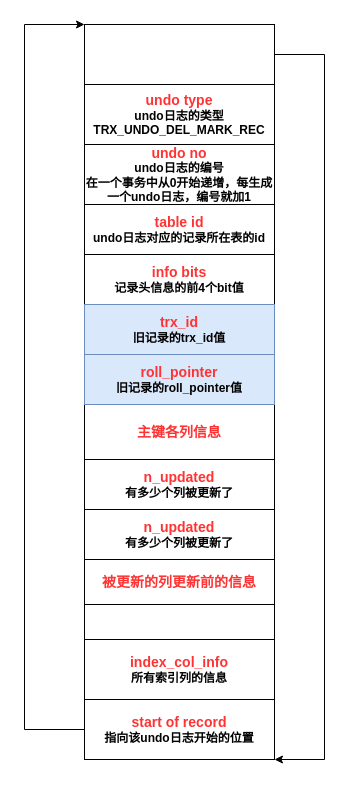
Image size: 350x785. Some labels were removed from this diagram. Here are the shapes that lost their labels. From the top down, the box of each, then its label:
(84, 24, 274, 84): end of record 指向该undo日志结束的位置
(84, 604, 274, 640): len of index_col_info
